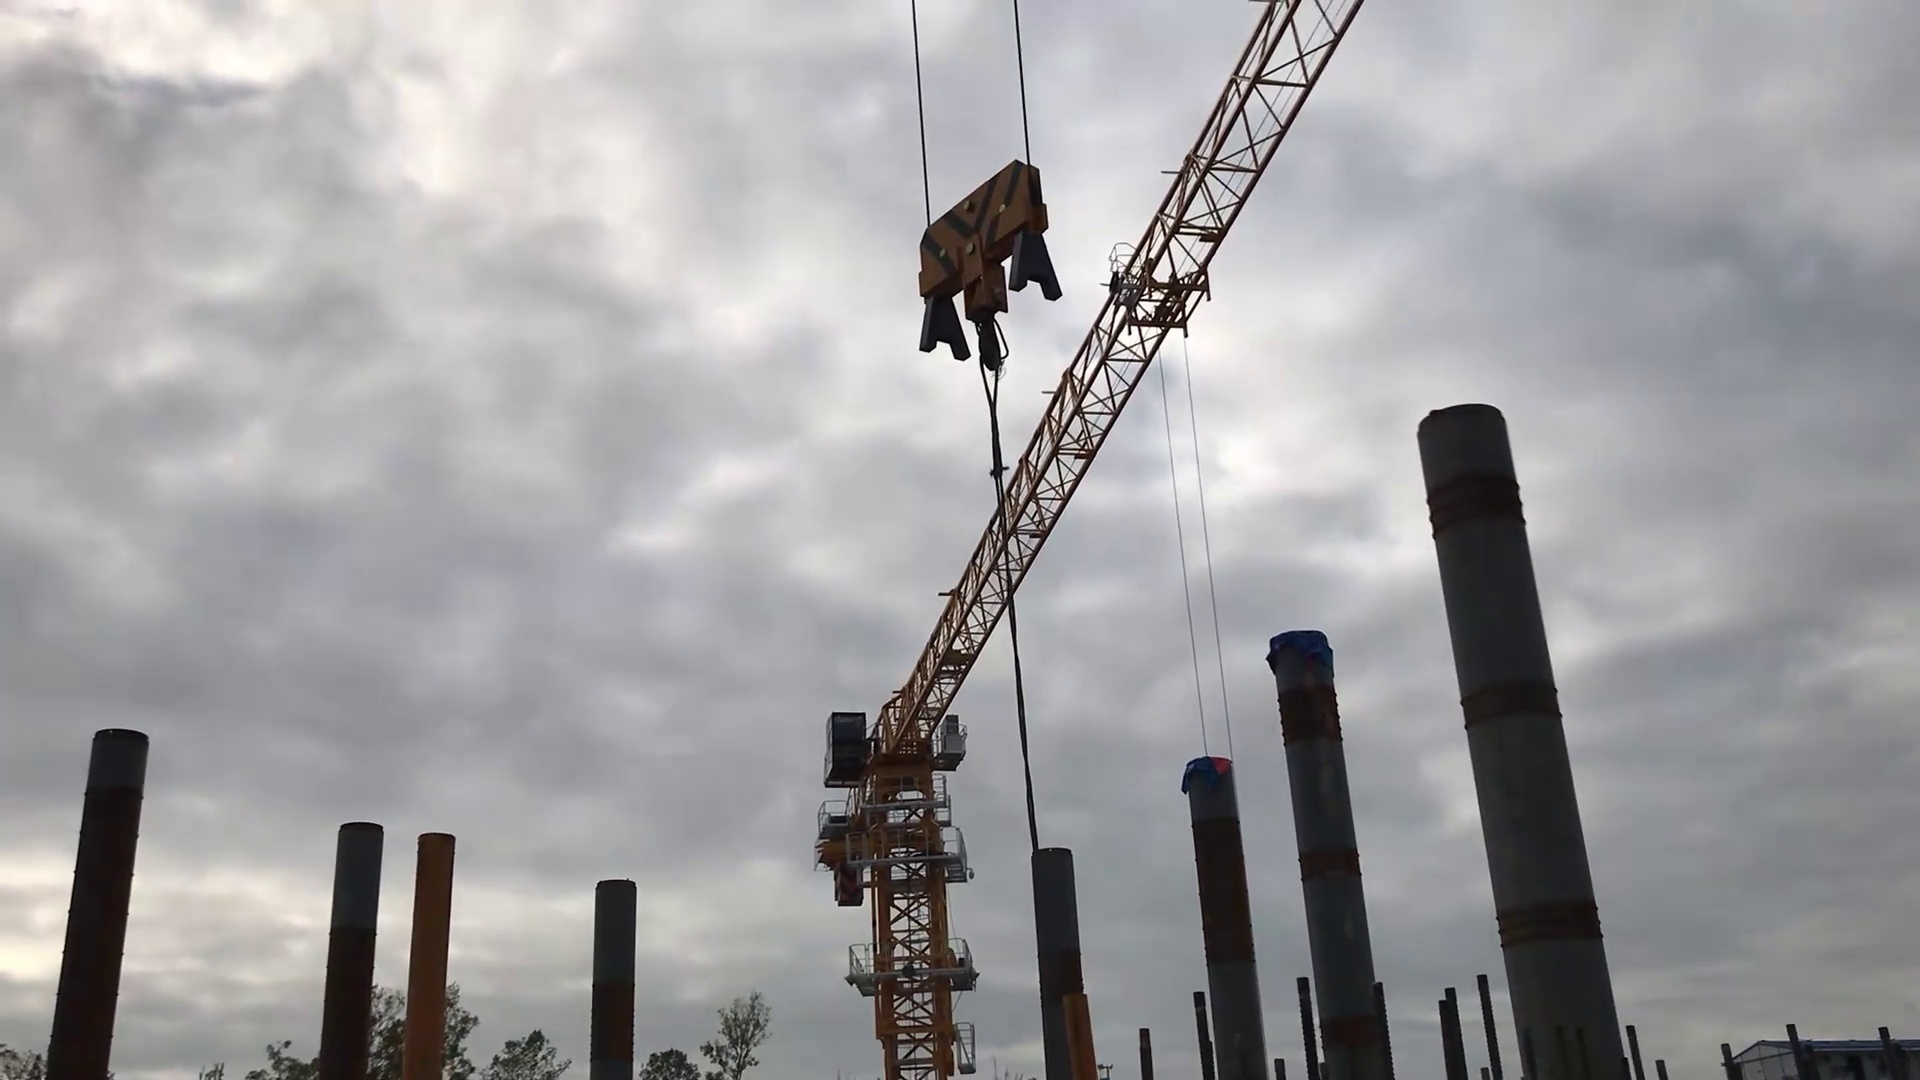hook: (906, 153, 1069, 375)
